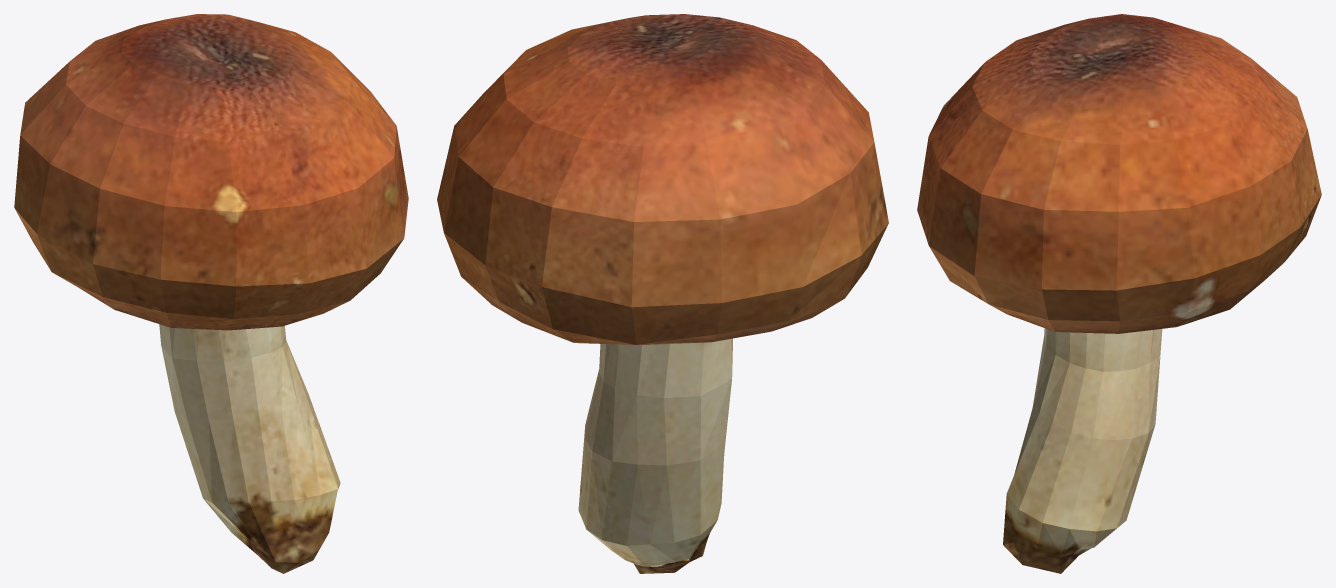
File: P_Songrong_02.obj
3 views of the same model, side by side, from view 1: azimuth 30°, elevation 25°; view 2: azimuth 150°, elevation 25°; view 3: azimuth 270°, elevation 25° (orthographic). The views are drawn at different scales.
Size of the model in its own units: 0.3823 by 0.5328 by 0.3884.
Materials: 1 (1 with a texture image).
